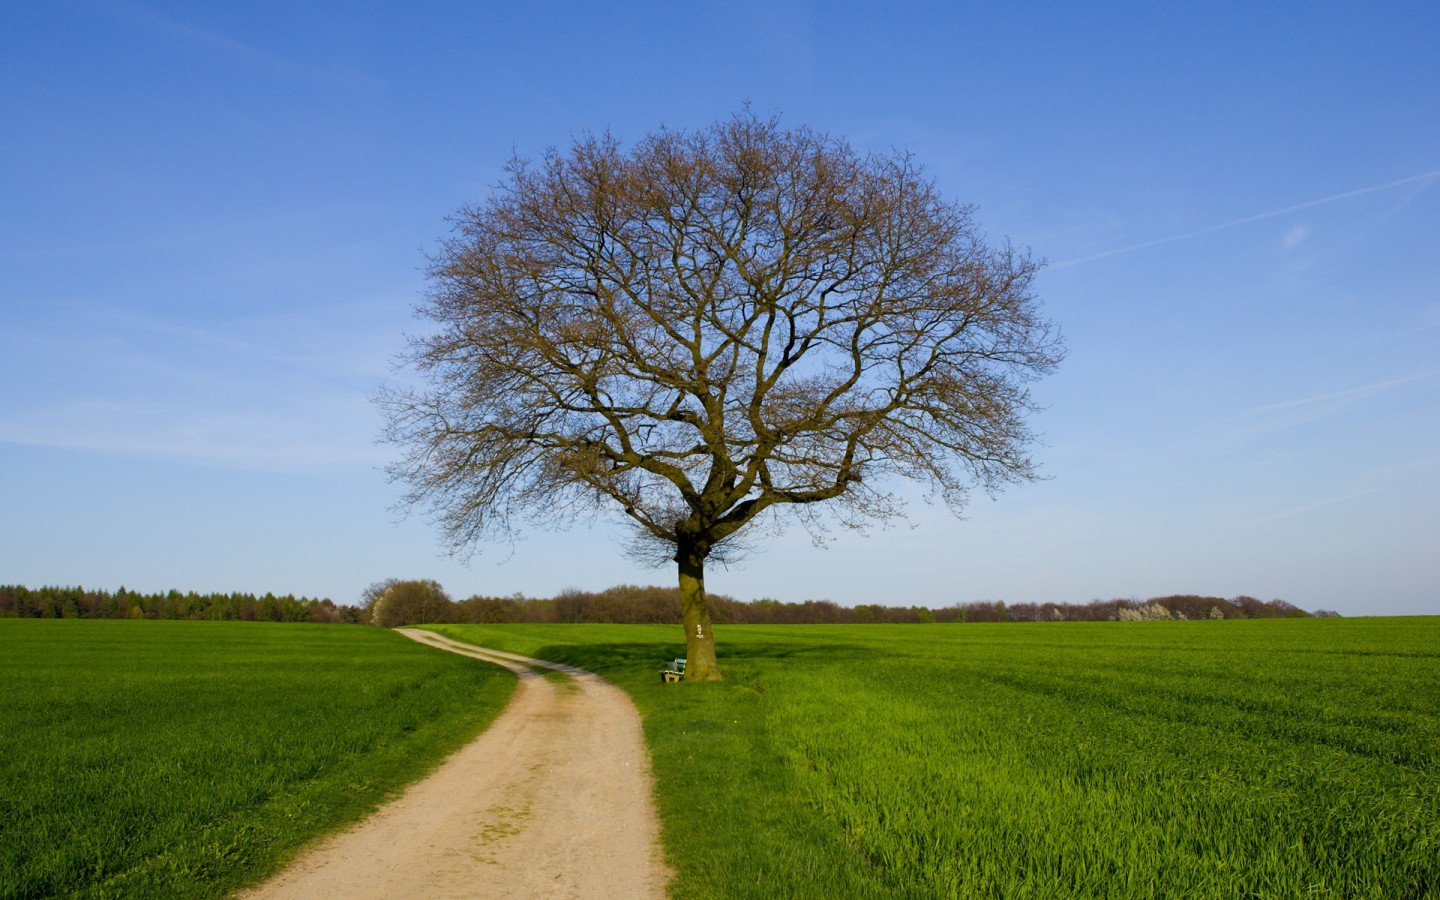tree: (368, 94, 1071, 684)
